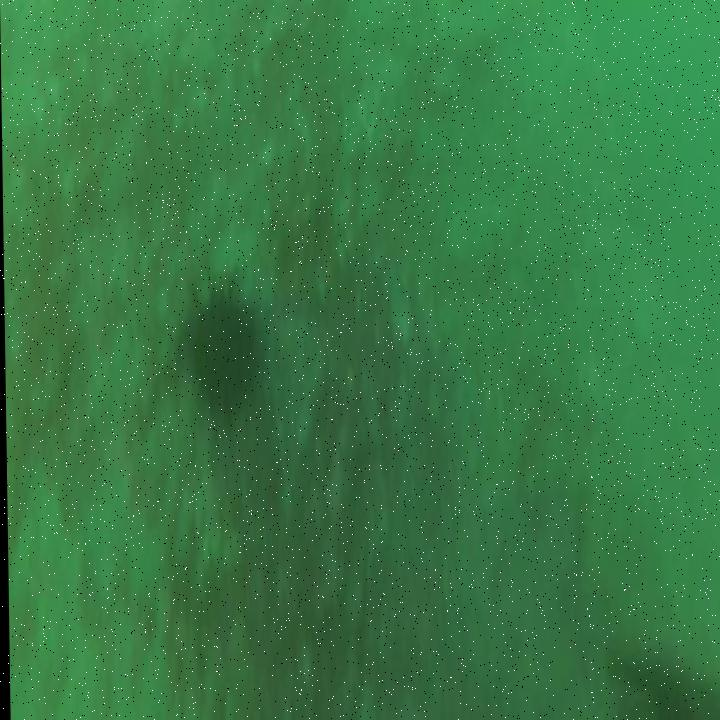echinus: (192, 295, 257, 404)
